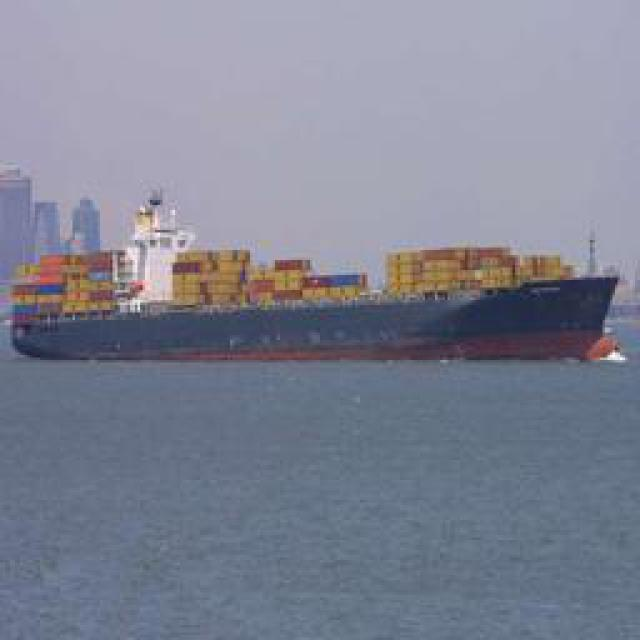Ship: (14, 241, 624, 356)
